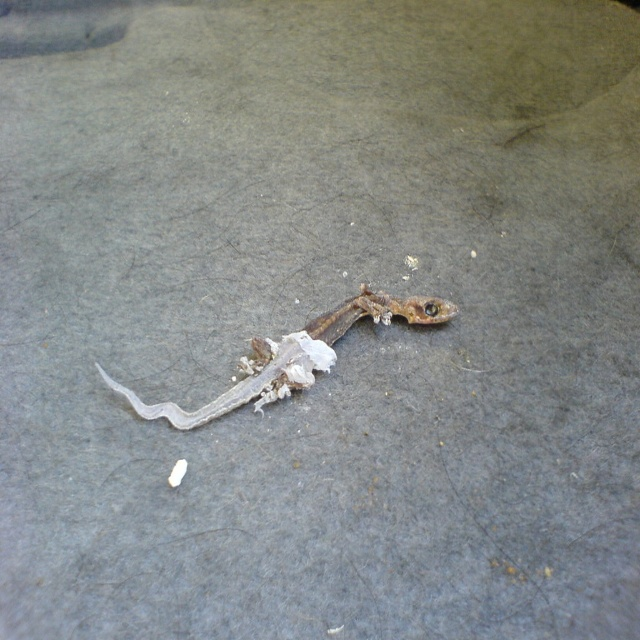Lizard: (96, 286, 458, 433)
